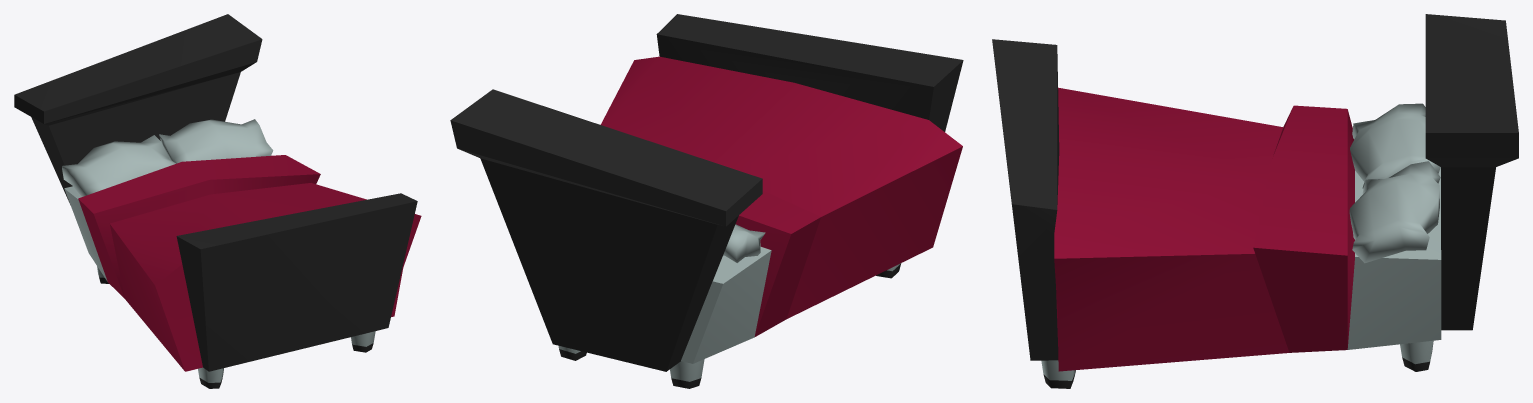
The model's file is C_bed.fbx.
3 renders of one model, left to right at view 1: azimuth 30°, elevation 25°; view 2: azimuth 150°, elevation 25°; view 3: azimuth 270°, elevation 25°, orthographic. The views are drawn at different scales.
Visible parts, largest first — view 1: C_bed; view 2: C_bed; view 3: C_bed.
Part boxes in pixels (x1,y1,x2,y2): C_bed: (14, 14, 421, 388); C_bed: (450, 14, 963, 388); C_bed: (992, 14, 1518, 388).
Bounding box in the file's own units: 2.49 × 1.81 × 3.15.
